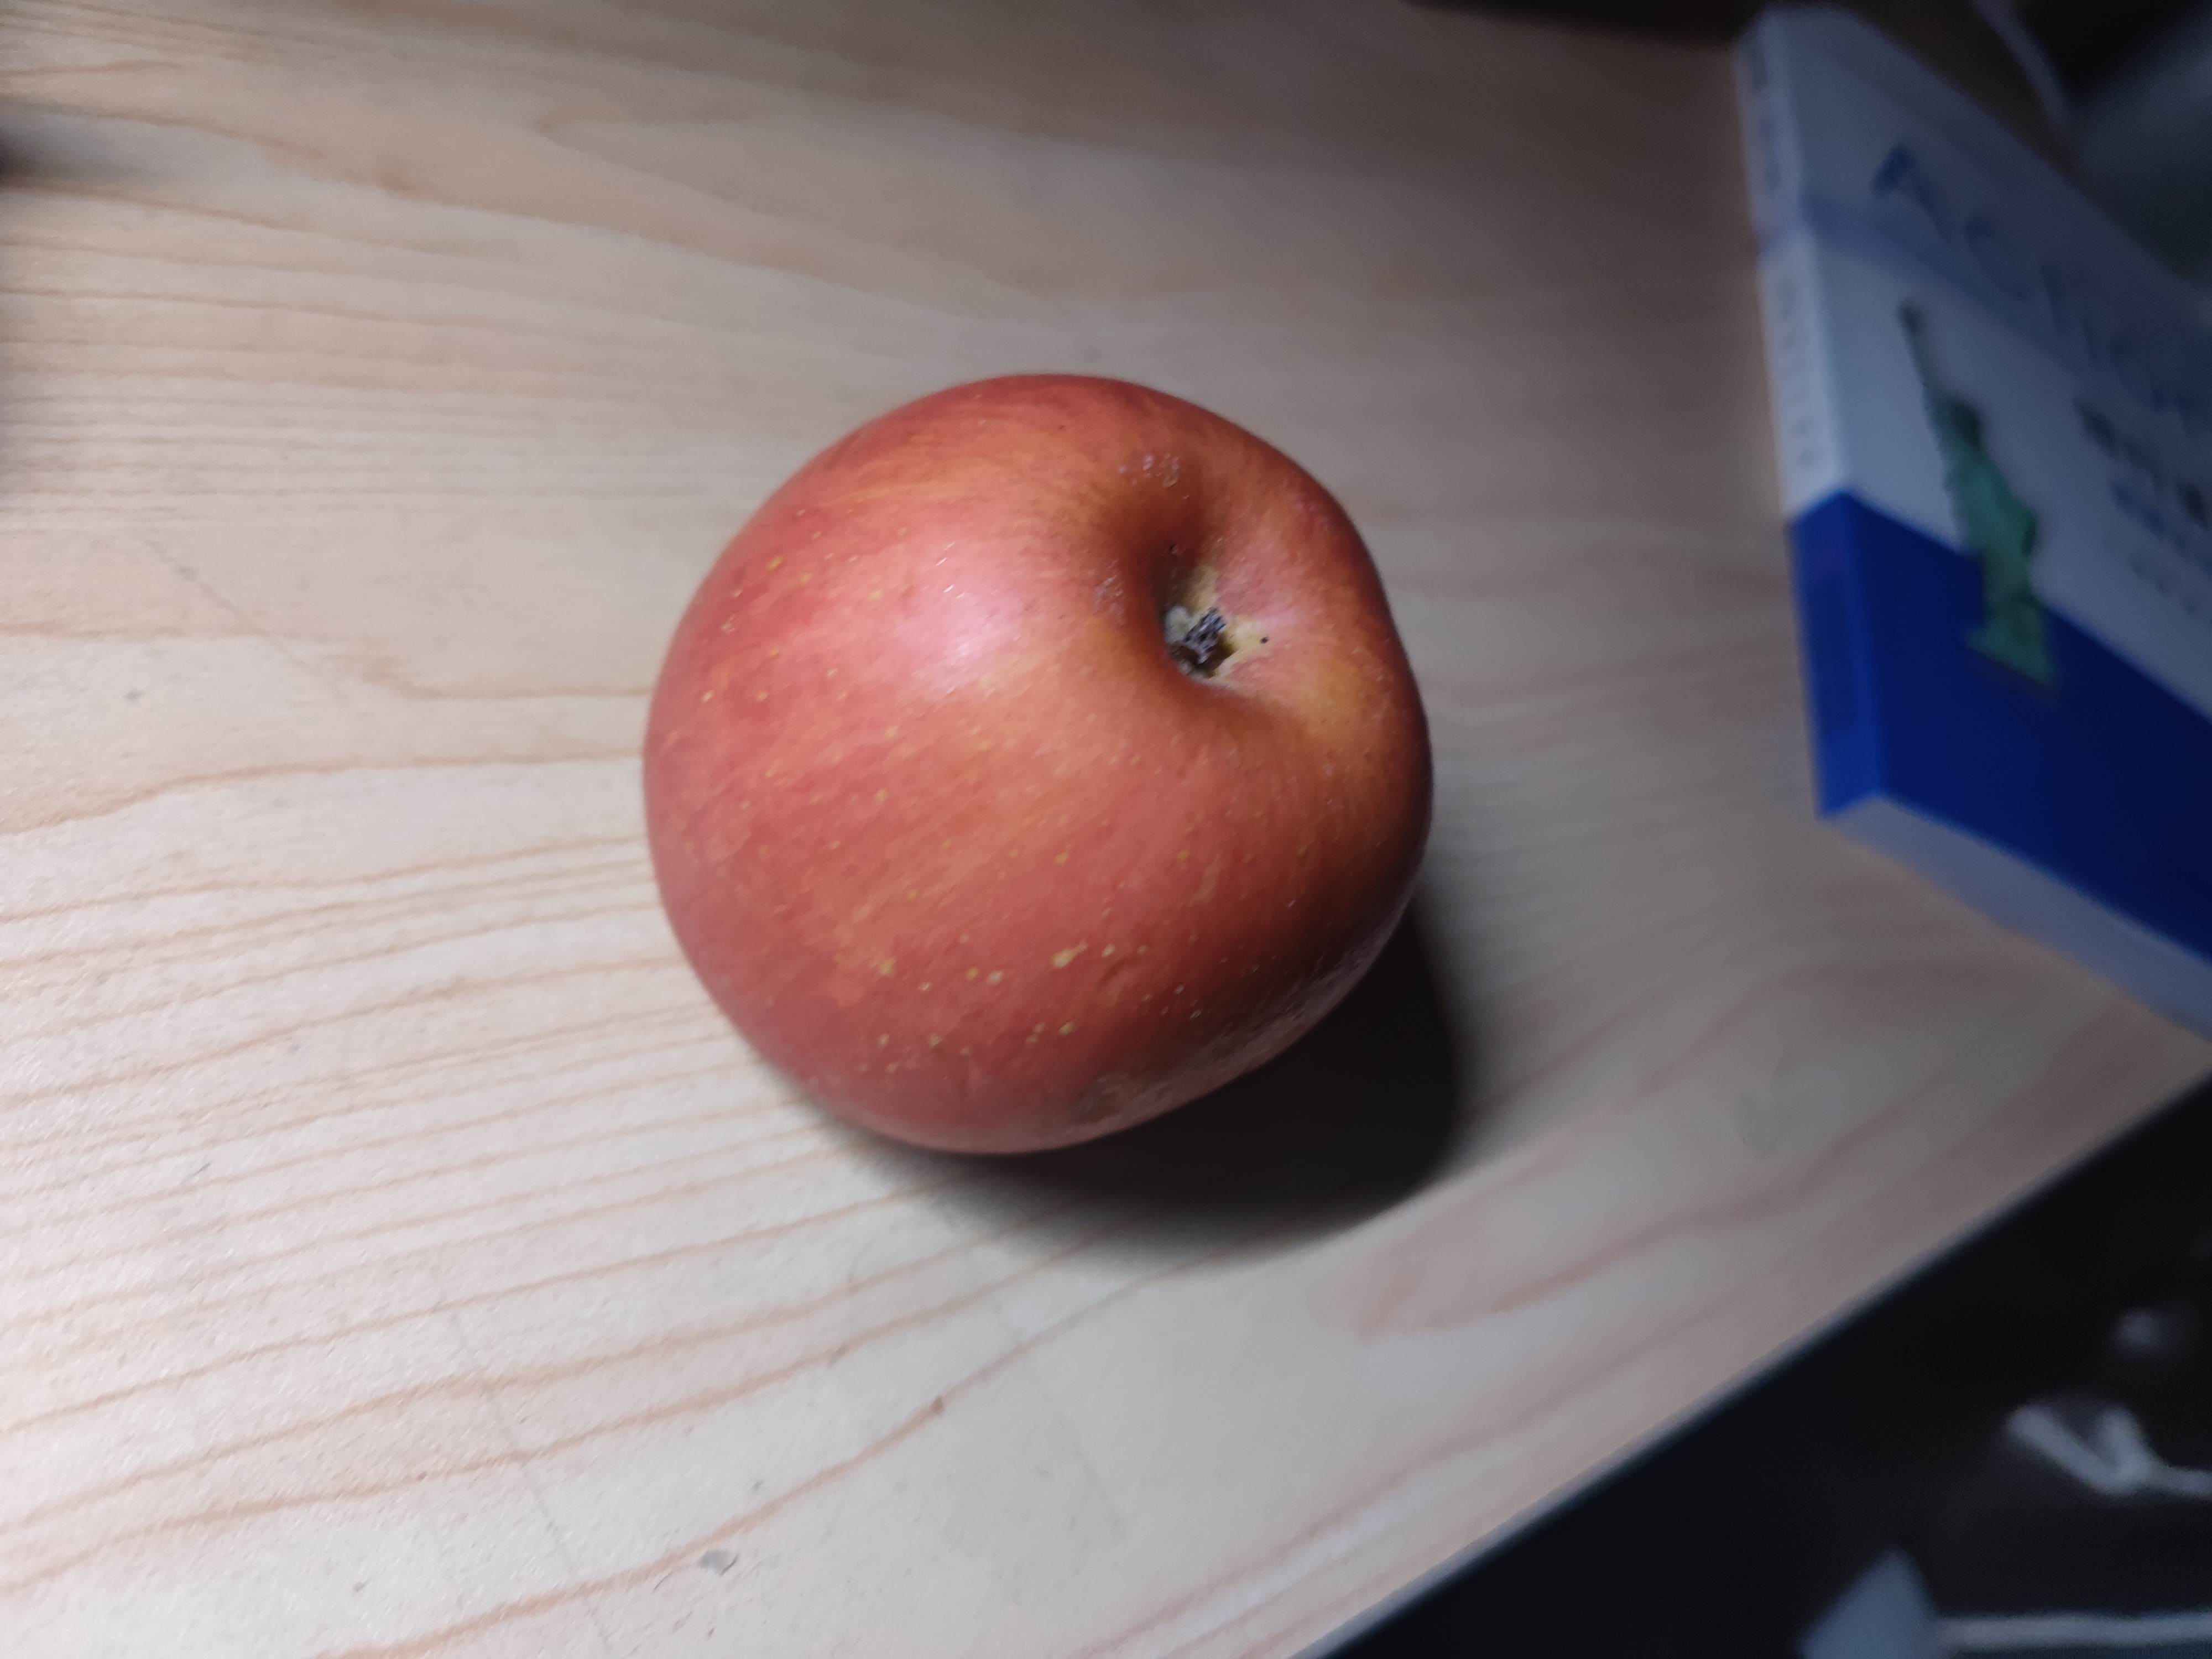apple: (641, 368, 1446, 1164)
